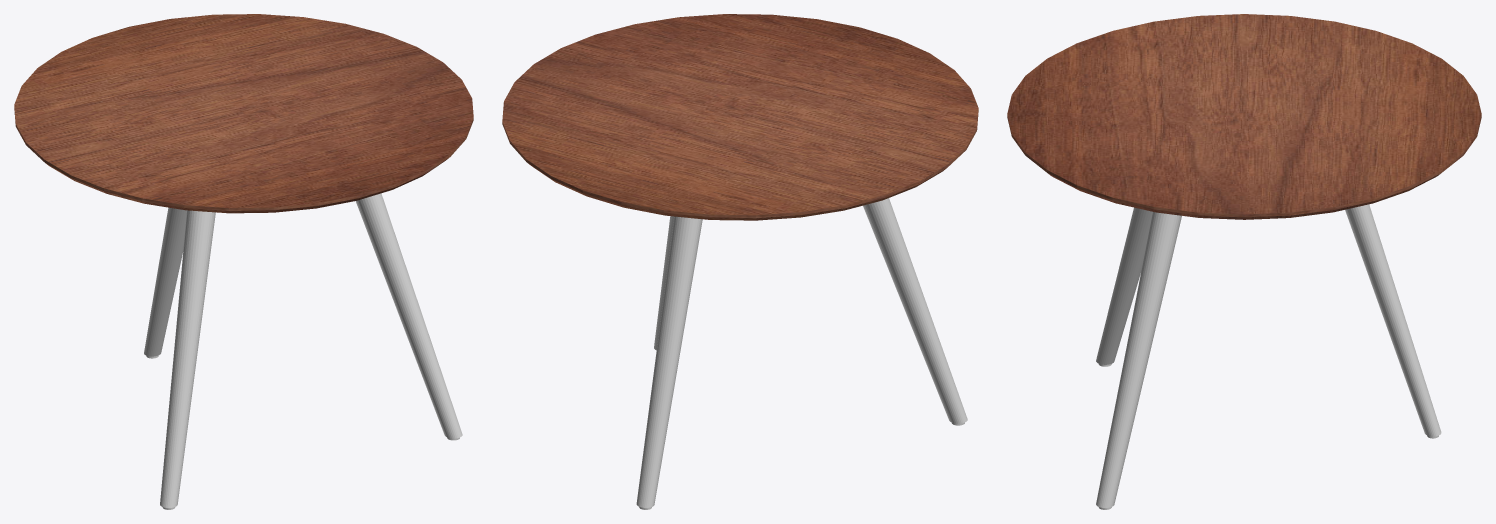
The model's file is Round_Table_Small.fbx.
3 renders of one model, left to right at view 1: azimuth 30°, elevation 25°; view 2: azimuth 150°, elevation 25°; view 3: azimuth 270°, elevation 25°, orthographic. The views are drawn at different scales.
Visible parts, largest first — view 1: Top.001, Bottom; view 2: Top.001, Bottom; view 3: Top.001, Bottom.
Part boxes in pixels (x1,y1,x2,y2): Top.001: (14,14,473,213); Bottom: (144,193,462,509); Top.001: (502,14,978,220); Bottom: (636,198,967,509); Top.001: (1007,14,1481,219); Bottom: (1096,204,1441,509).
Bounding box in the file's own units: 200 × 149 × 200.
